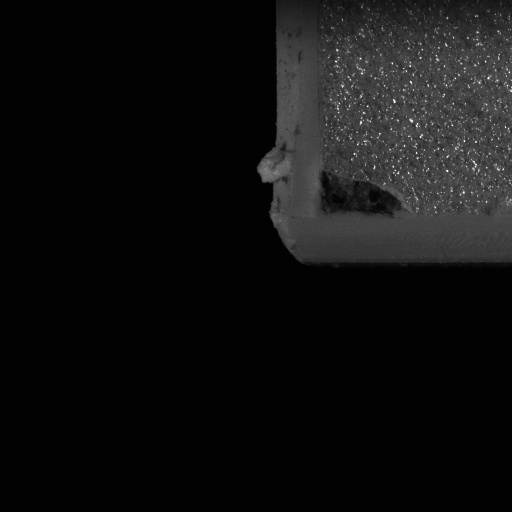bengque: (313, 169, 413, 219)
